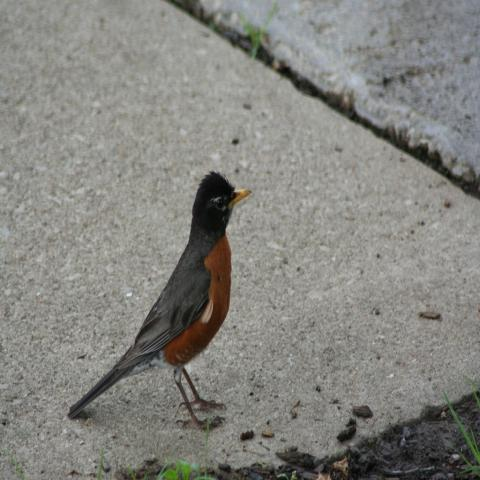bird: (66, 167, 254, 432)
